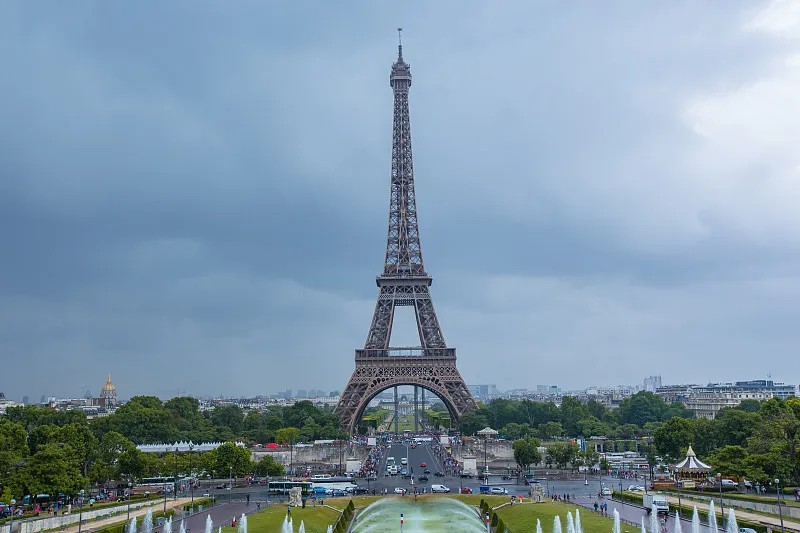Eiffel: (332, 28, 480, 432)
